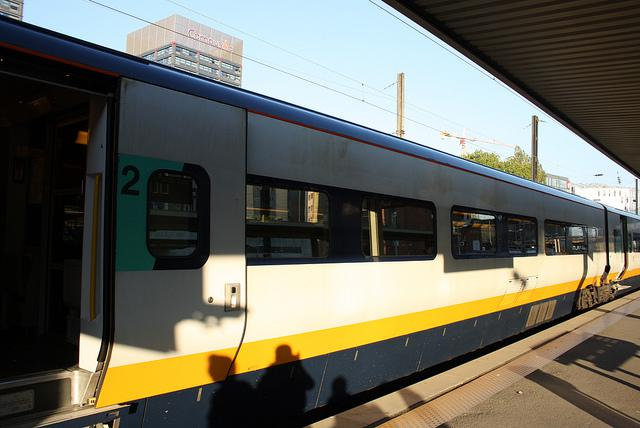Train: (1, 14, 640, 424)
